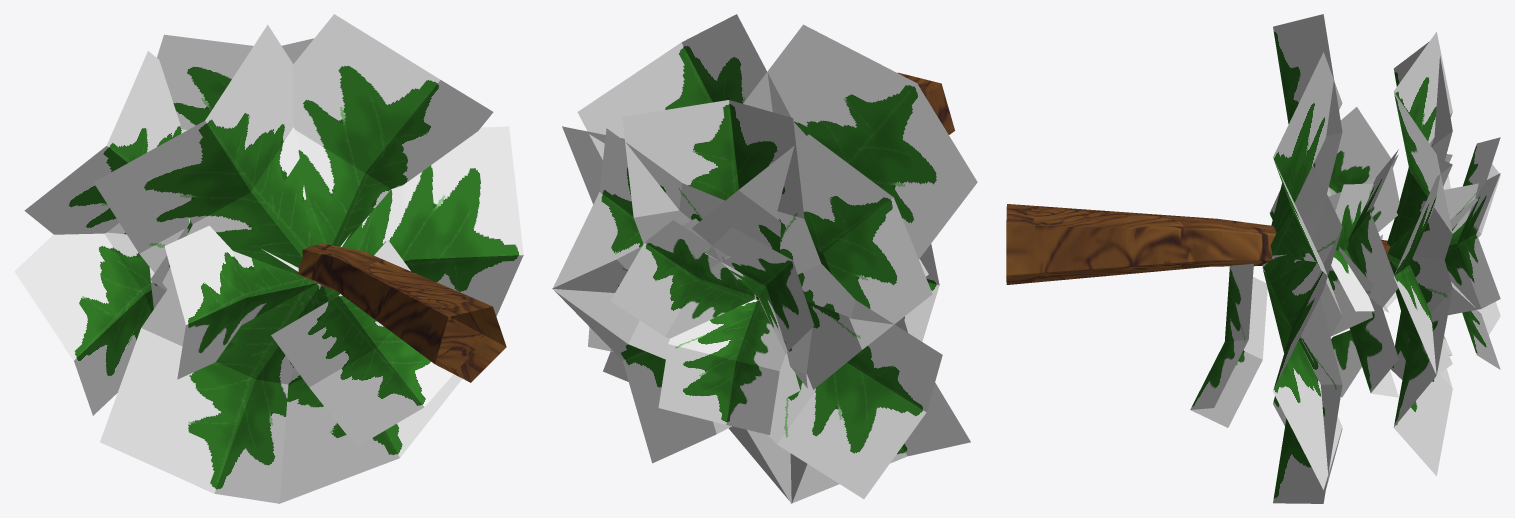
File: tree1.fbx
3 views of the same model, side by side, from view 1: azimuth 30°, elevation 25°; view 2: azimuth 150°, elevation 25°; view 3: azimuth 270°, elevation 25° (orthographic).
Visible parts, largest first — view 1: Plane.012; view 2: Plane.012; view 3: Plane.012.
Part boxes in pixels (bbox=[...]): Plane.012: bbox=[14, 14, 523, 503]; Plane.012: bbox=[552, 14, 977, 503]; Plane.012: bbox=[1006, 14, 1500, 503].
Size of the model in its own units: 785 by 827 by 774.
